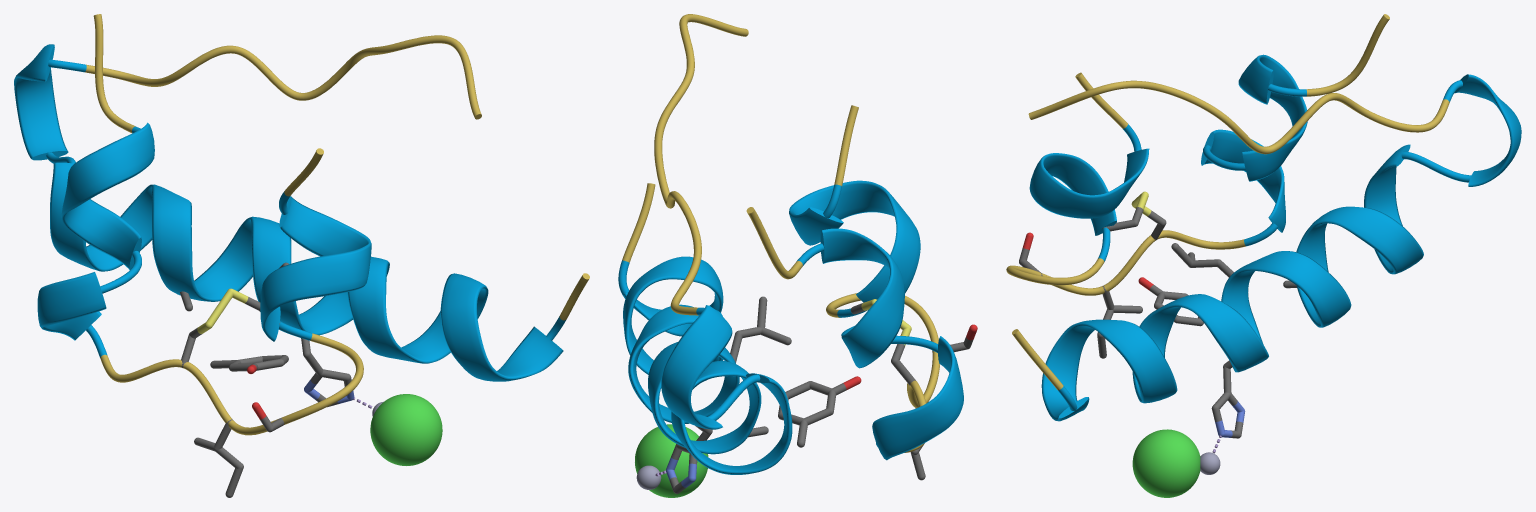
Rendered from insulin.glb.
3 renders of one model, left to right at view 1: azimuth 30°, elevation 25°; view 2: azimuth 150°, elevation 25°; view 3: azimuth 270°, elevation 25°, orthographic. The views are drawn at different scales.
Visible parts, largest first — view 1: ribbons, atoms, bonds; view 2: ribbons, bonds, atoms; view 3: ribbons, atoms, bonds.
Part boxes in pixels (x1,y1,x2,y2): ribbons: (14,14,589,435); atoms: (181,262,442,497); bonds: (180,263,354,495); ribbons: (618,14,963,474); bonds: (666,299,976,493); atoms: (635,296,977,497); ribbons: (1006,14,1521,421); atoms: (1019,191,1286,497); bonds: (1019,193,1296,438).
Bounding box in the file's own units: 24.67 × 24.41 × 27.21.
